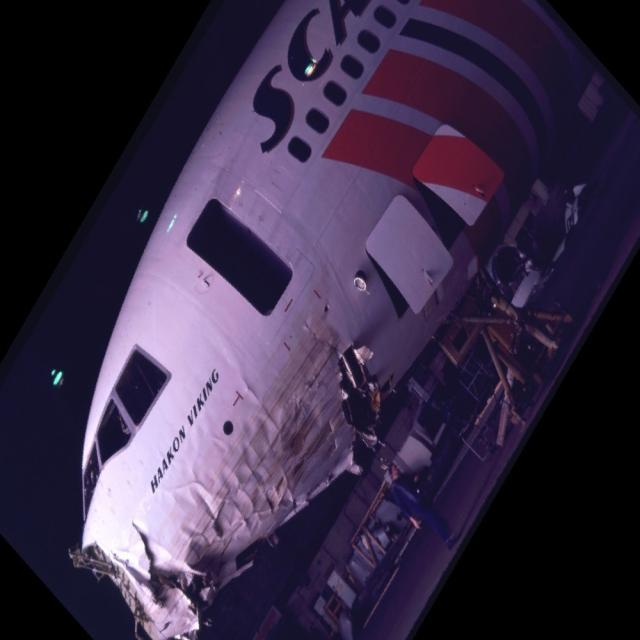crack: (128, 517, 163, 589), (303, 317, 345, 367)
dent: (180, 477, 266, 544), (274, 396, 318, 454)
